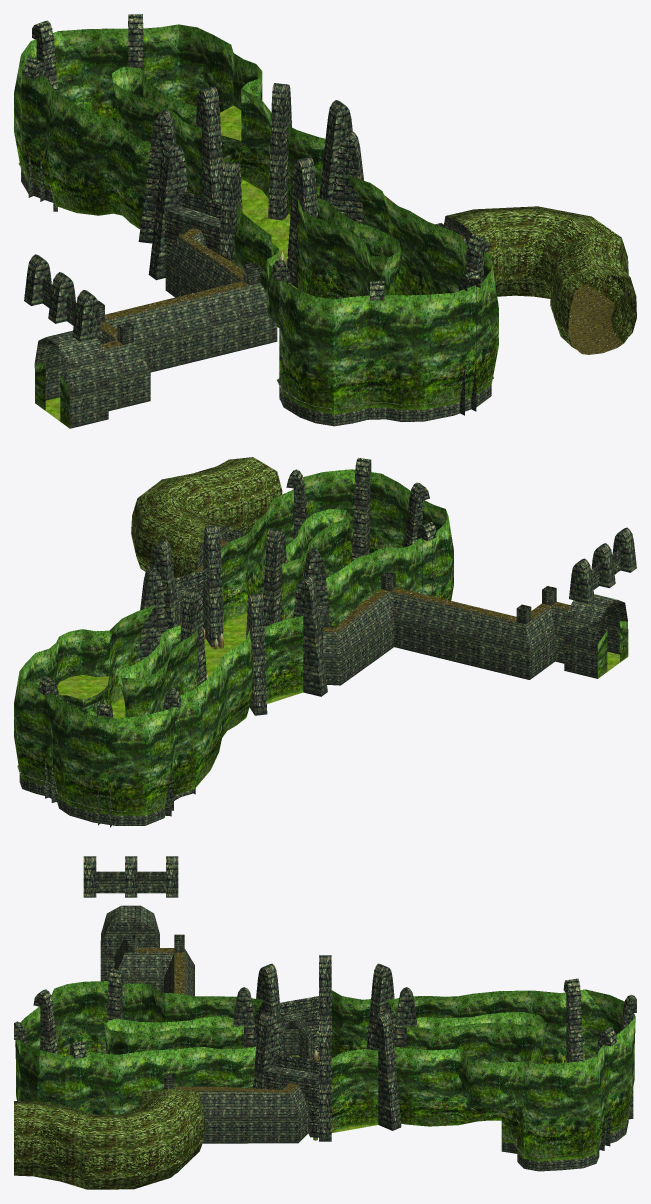
The model's file is Thorntail Hollow to LightFoot Village Path.obj.
The picture shows the model from 3 angles, top to bottom: view 1: azimuth 30°, elevation 25°; view 2: azimuth 150°, elevation 25°; view 3: azimuth 270°, elevation 25°; orthographic projection. The views are drawn at different scales.
Visible parts, largest first — view 1: Mesh_0081; view 2: Mesh_0081; view 3: Mesh_0081.
Part boxes in pixels (bbox=[...]): Mesh_0081: bbox=[14, 14, 636, 428]; Mesh_0081: bbox=[14, 457, 636, 827]; Mesh_0081: bbox=[14, 856, 636, 1189].
Size of the model in its own units: 165 by 49.8 by 192.
6 materials, 6 textured.
